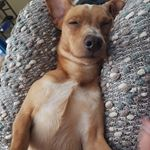puppy: (33, 1, 126, 149)
